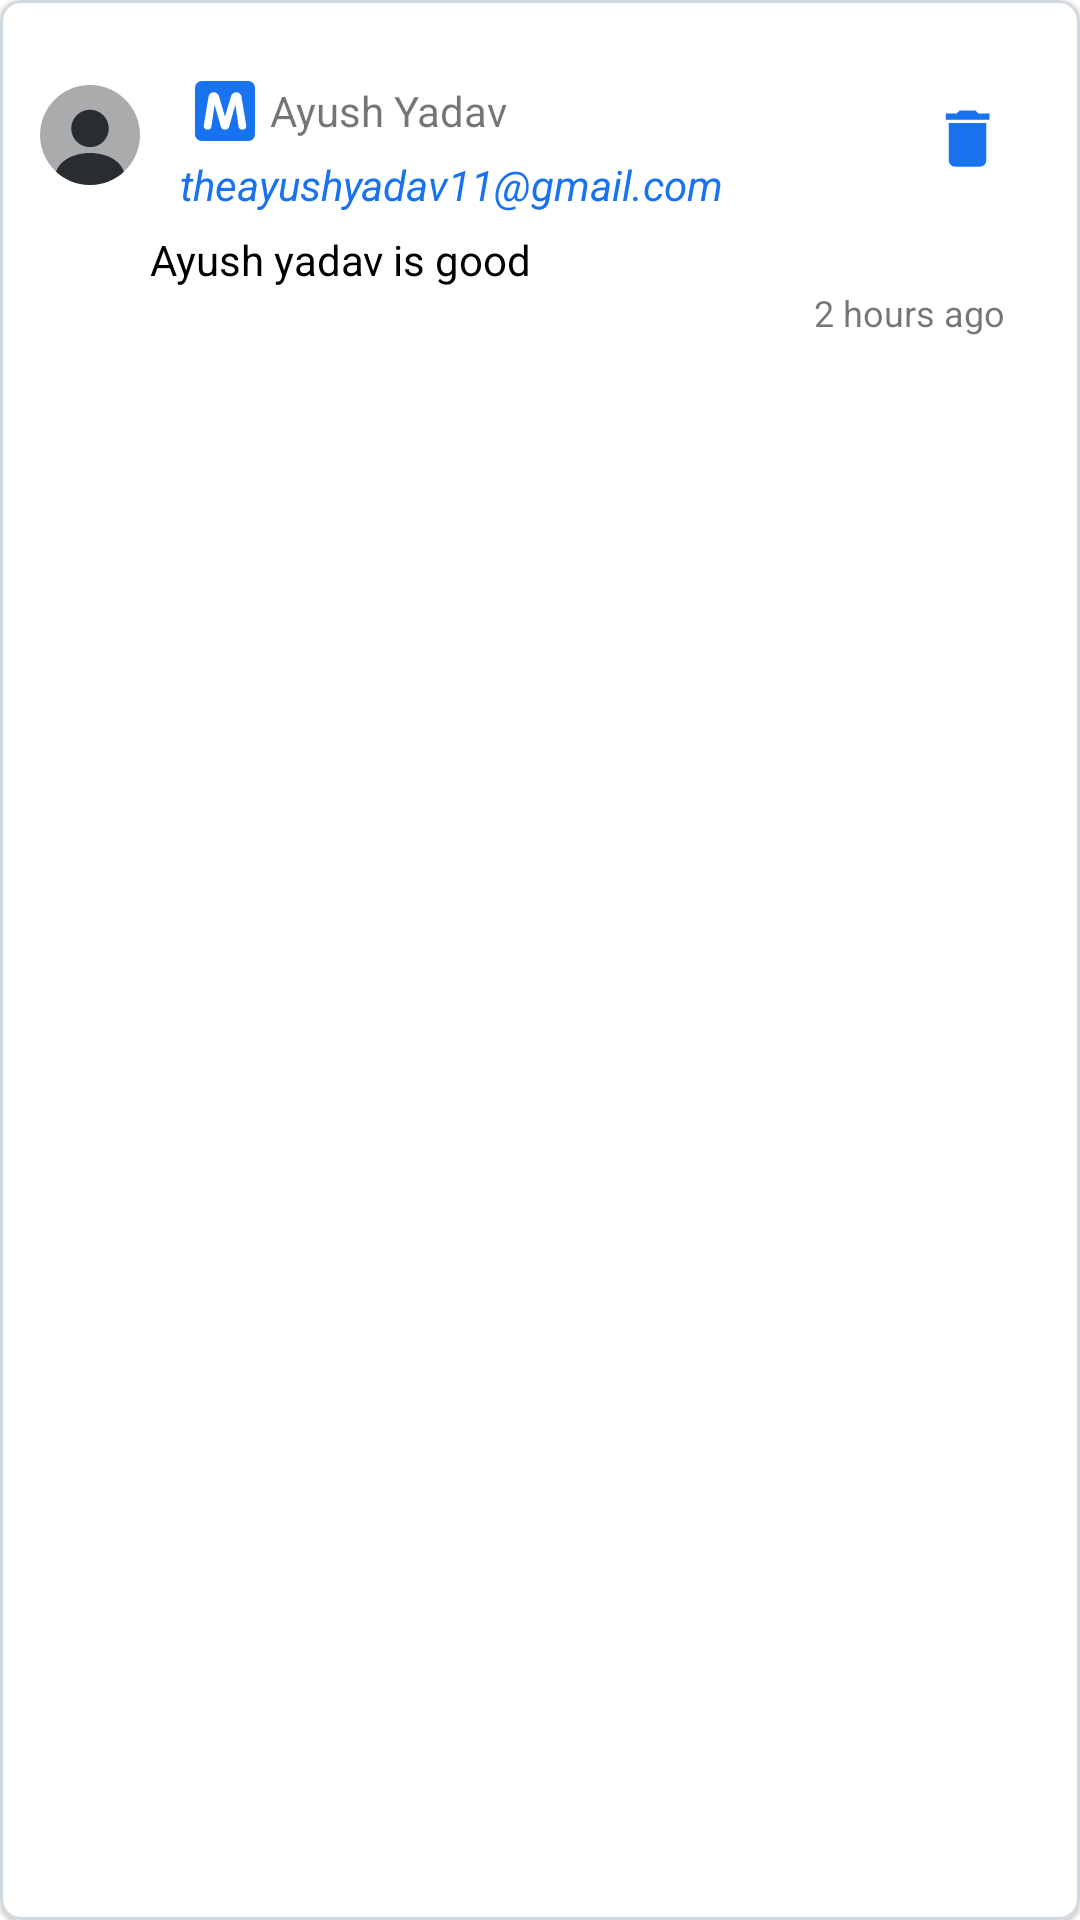

Named icons in this screenshot (1080×1920) and their bounding boxes, detection(x1, y1, x2, y2):
delete 24menu: detection(945, 110, 990, 167)
profile circle: detection(40, 85, 140, 185)
